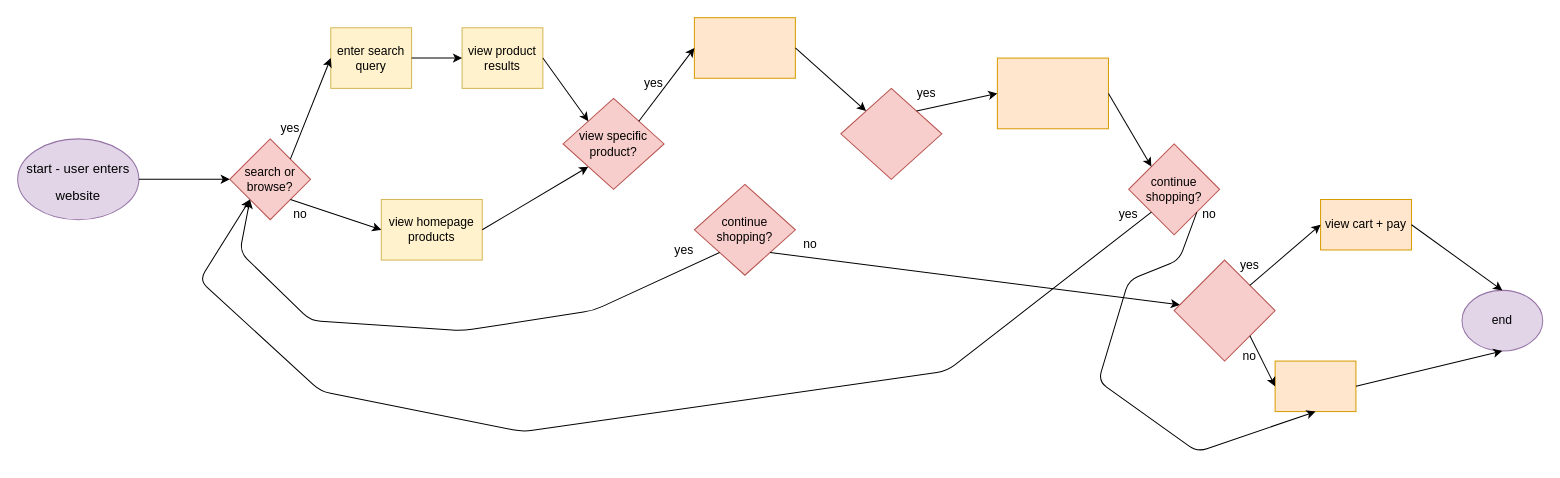
The diagram is 1560 pixels wide and 478 high, and some of its shapes have lost their labels. Here are the shapes that lost their labels. From the top down, the box of each, then its label:
(693, 17, 795, 78): open product page
(996, 57, 1108, 129): show "added to cart" confirmation
(840, 87, 942, 179): add to cart?
(1173, 259, 1275, 361): checkout?
(1274, 360, 1356, 412): leave website
